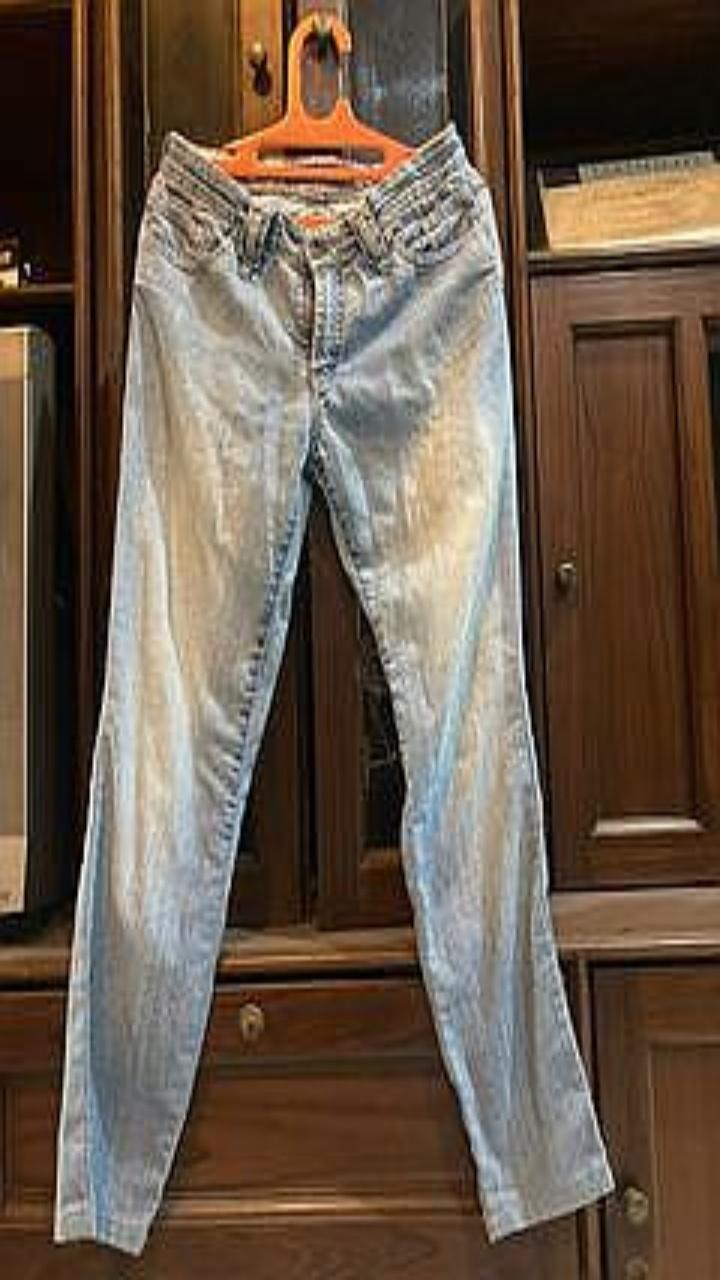Jeans: (55, 125, 611, 1252)
